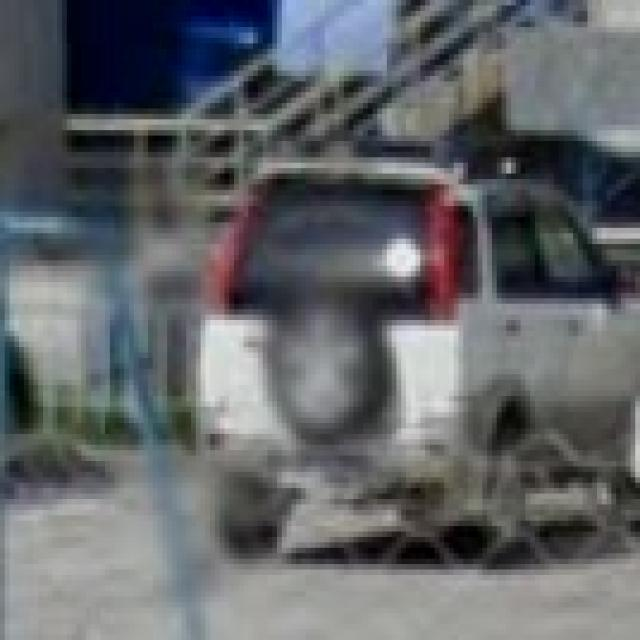car: (199, 155, 640, 572)
